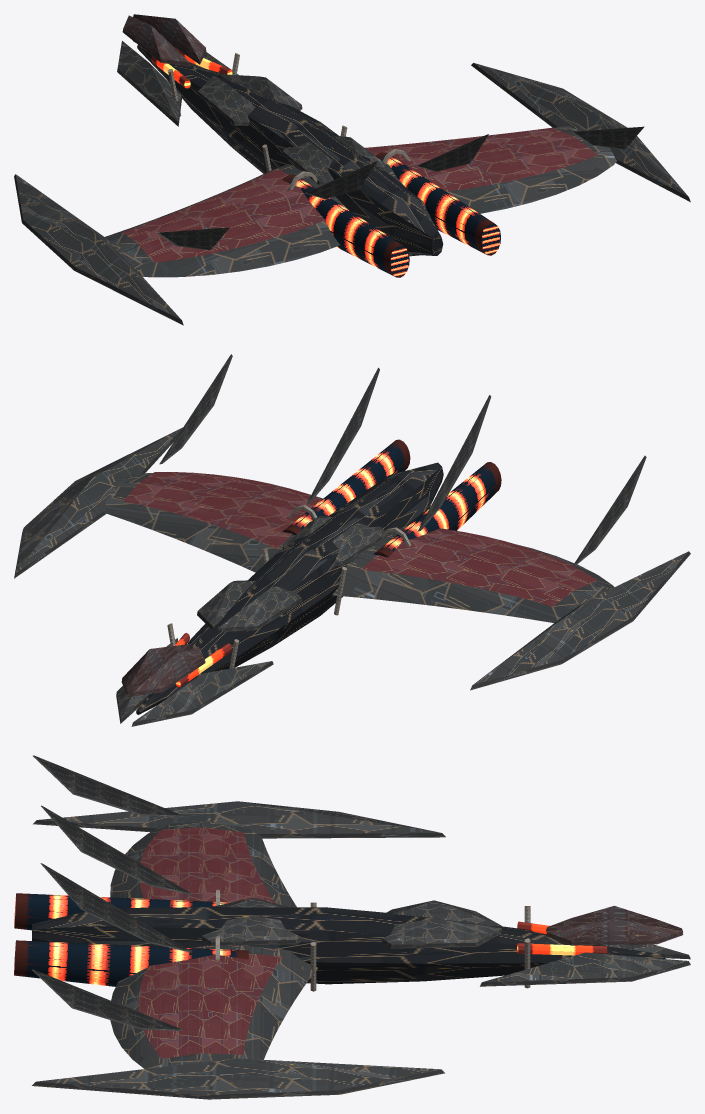
File: dynasty_courier_far.glb
The picture shows the model from 3 angles, top to bottom: view 1: azimuth 30°, elevation 25°; view 2: azimuth 150°, elevation 25°; view 3: azimuth 270°, elevation 25°; orthographic projection. The views are drawn at different scales.
Visible parts, largest first — view 1: dynasty_courier_far_source; view 2: dynasty_courier_far_source; view 3: dynasty_courier_far_source.
Boxes of the visible parts, x1,y1,x2,y2 form: dynasty_courier_far_source: (14, 14, 690, 325); dynasty_courier_far_source: (14, 354, 690, 726); dynasty_courier_far_source: (14, 755, 690, 1099).
Bounding box in the file's own units: 1.42 × 0.3416 × 1.41.
1 material, 1 textured.
